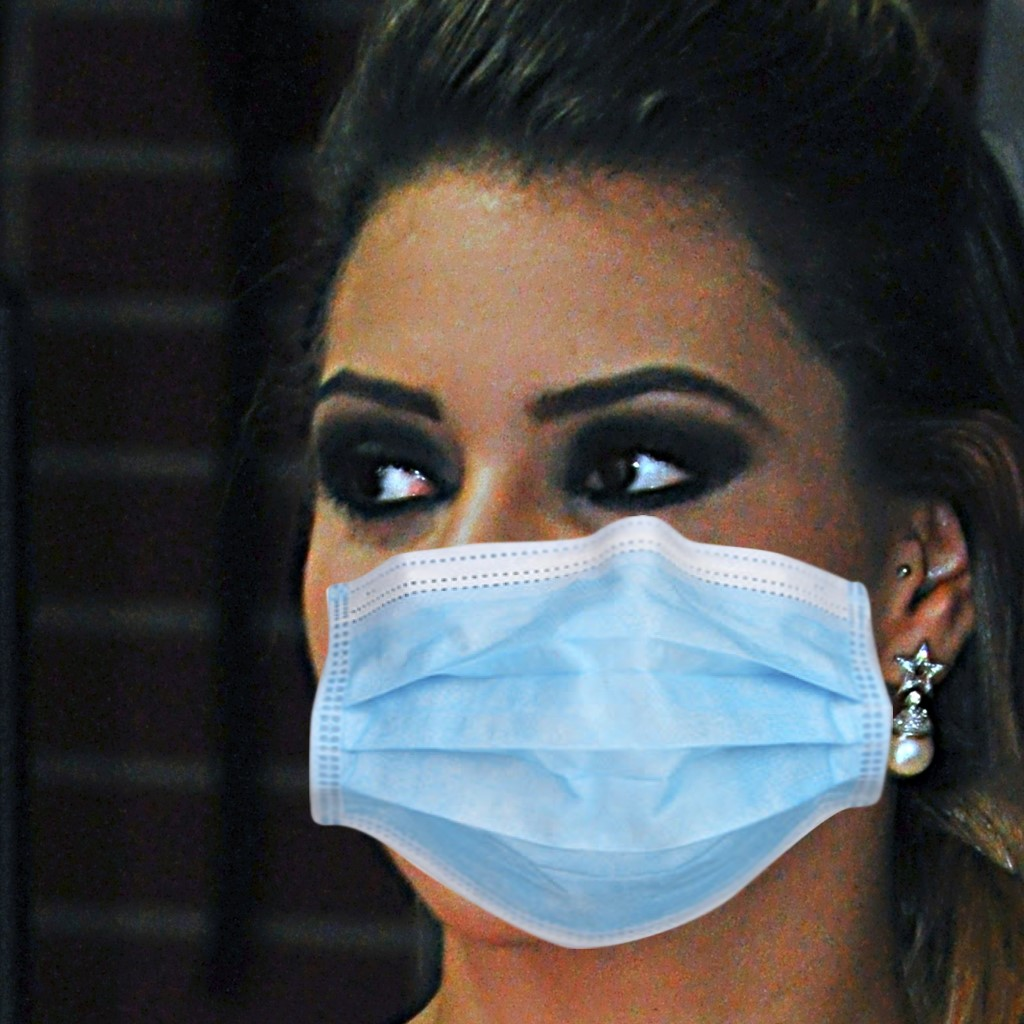con_mascara: (295, 162, 897, 939)
